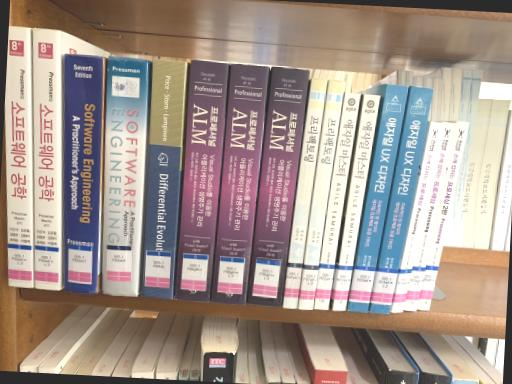book-spine: (246, 66, 309, 307), (368, 86, 433, 314), (210, 63, 269, 305), (347, 85, 407, 312), (175, 60, 228, 301), (100, 57, 146, 297), (142, 59, 186, 299), (332, 94, 380, 311), (282, 79, 327, 309), (299, 80, 344, 310), (402, 121, 455, 311), (314, 93, 360, 310), (417, 121, 469, 311), (390, 122, 441, 313), (63, 54, 103, 294), (4, 26, 32, 288), (33, 28, 60, 289)
